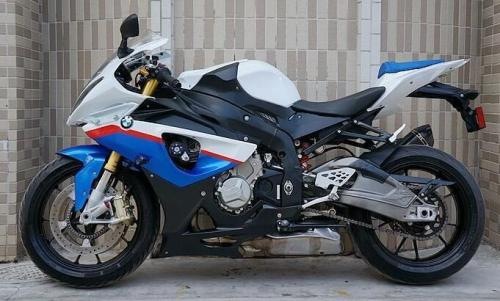motor: (24, 30, 480, 284)
